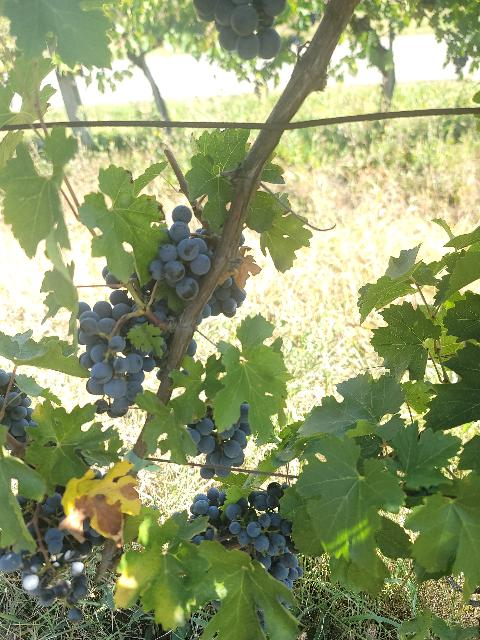grapes: (225, 482, 302, 589), (78, 311, 155, 416), (149, 205, 210, 301), (189, 404, 250, 479)
